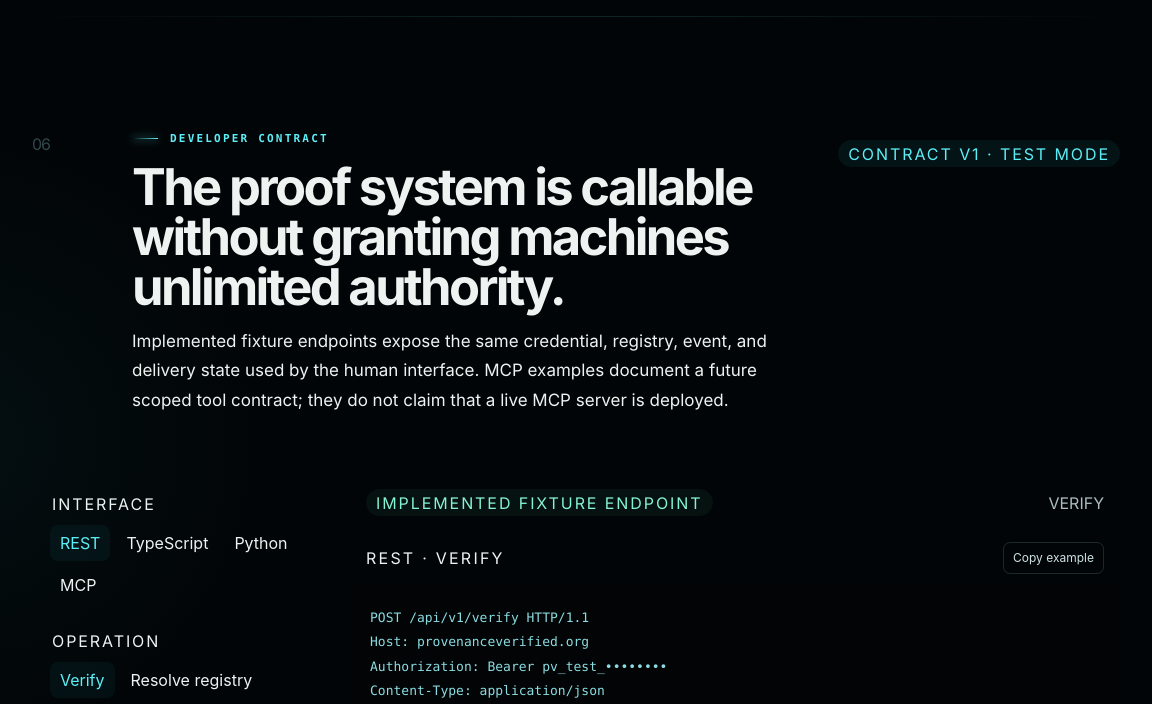
Phase 3 public proof system › labels MCP as a documented contract rather than a deployed runtime
Click the button "MCP": (78,585) [50, 567, 106, 603]
(page scrolled)
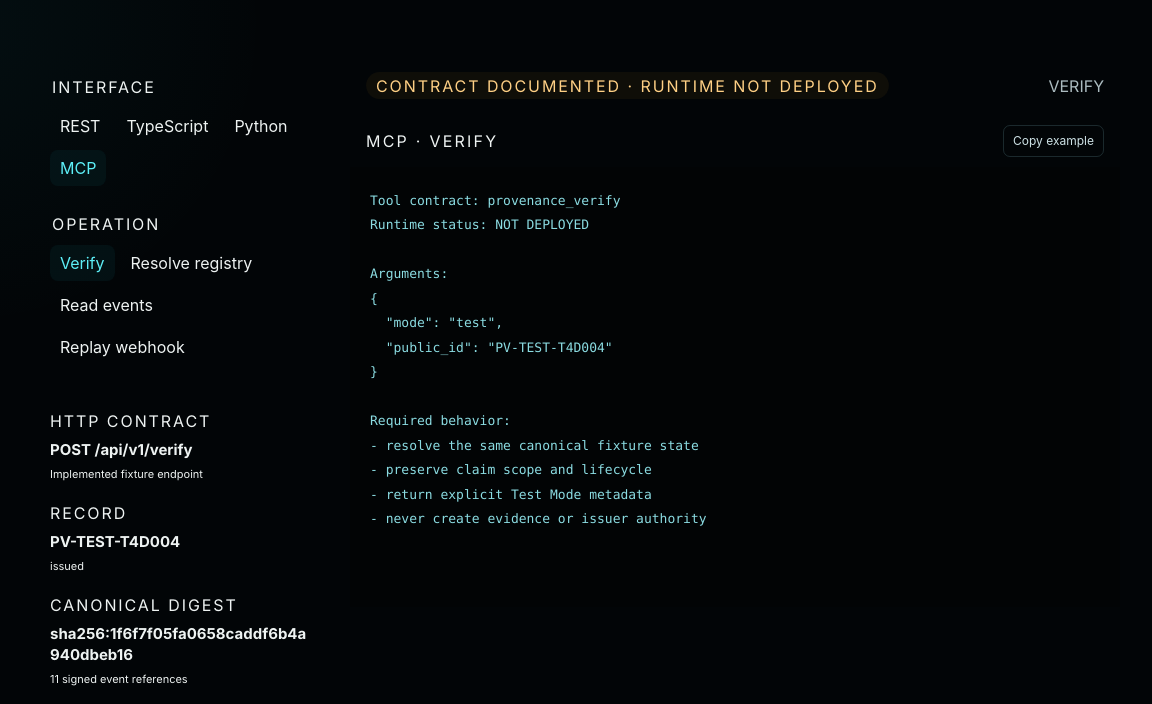
Now the text "CONTRACT DOCUMENTED · RUNTIME NOT DEPLOYED" is shown, box [366, 72, 889, 99]
Now the text "Runtime status: NOT DEPLOYED" is shown, box [370, 194, 706, 527]
